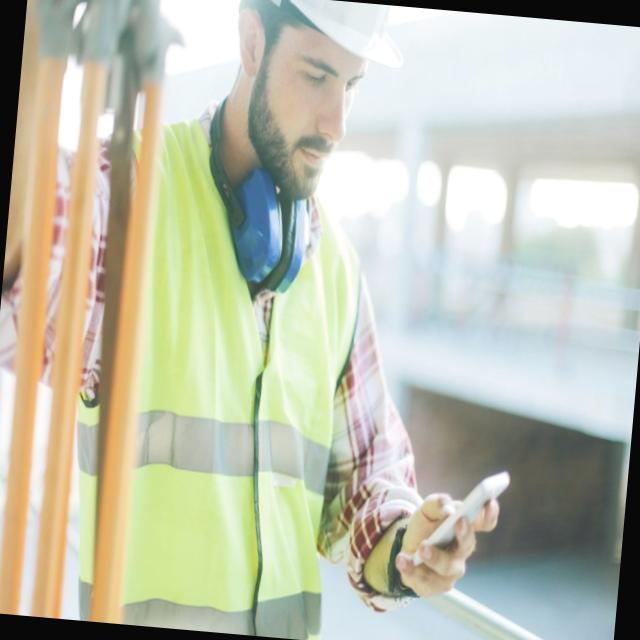helmet: (213, 0, 413, 78)
no-goggles: (266, 31, 372, 112)
vest: (77, 103, 384, 640)
